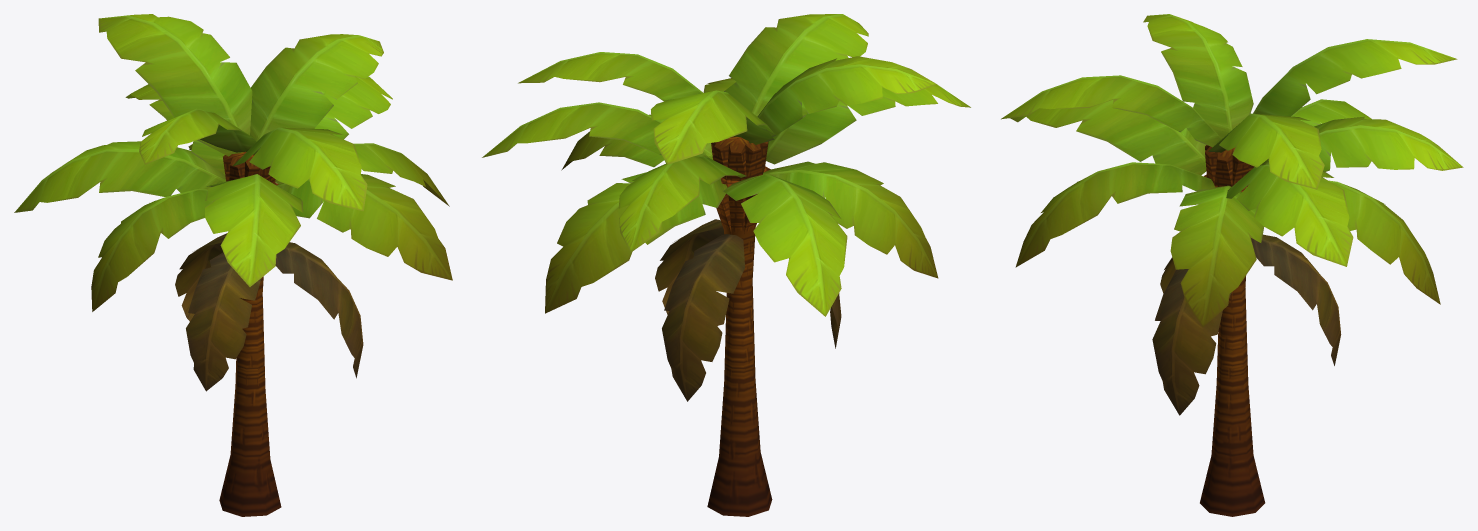
3 views of the same model, side by side, from view 1: azimuth 30°, elevation 25°; view 2: azimuth 150°, elevation 25°; view 3: azimuth 270°, elevation 25° (orthographic). The views are drawn at different scales.
Visible parts, largest first — view 1: coconut_tree; view 2: coconut_tree; view 3: coconut_tree.
Boxes of the visible parts, box(x1,y1,x2,y2) form: coconut_tree: box(14, 14, 452, 516); coconut_tree: box(482, 14, 970, 516); coconut_tree: box(1001, 14, 1463, 516).
Bounding box in the file's own units: 4.35 × 5.01 × 4.69.
1 material, 1 textured.
